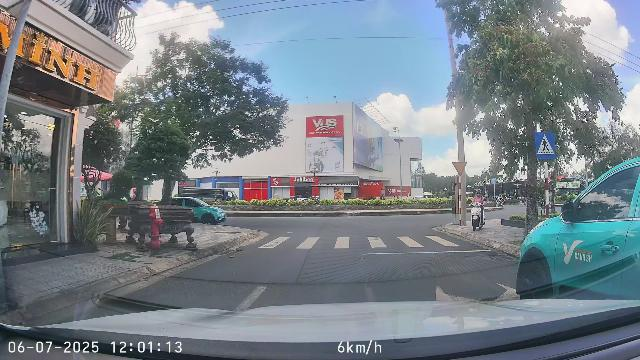208-giao-nhau-voi-duong-uu-tien: (452, 162, 467, 175)
423a-duong-nguoi-di-bo-sang-ngang-1: (535, 132, 556, 159)
